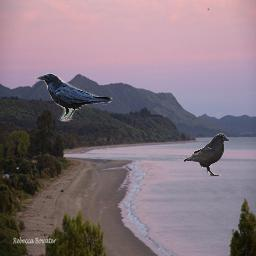Crow: (35, 73, 113, 122), (183, 133, 230, 176)
